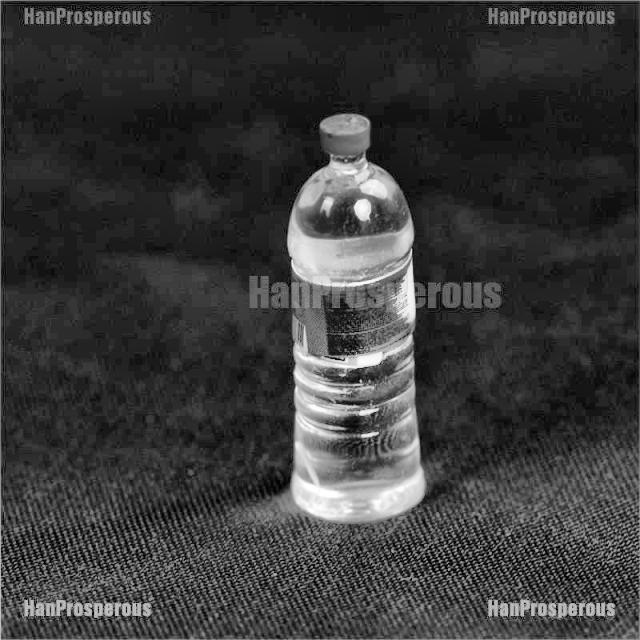waterbottle: (284, 96, 435, 528)
